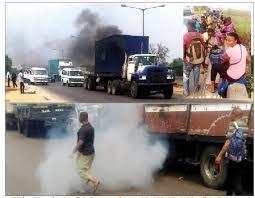smoke: (102, 110, 149, 185), (42, 158, 71, 184)
